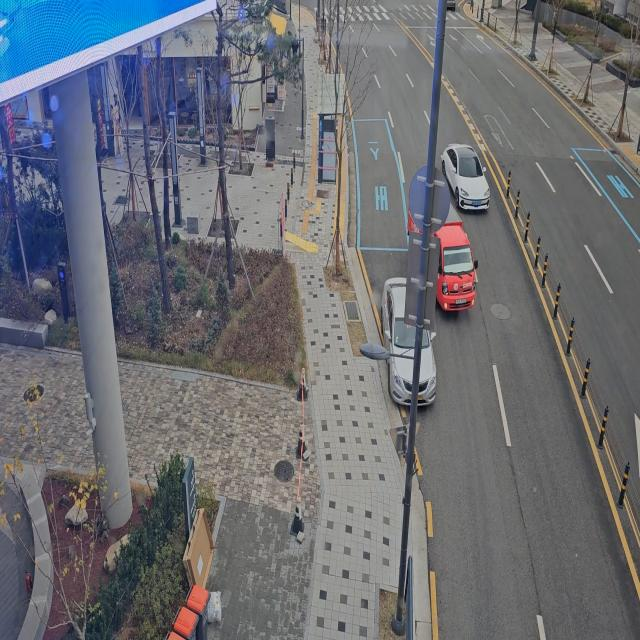Car: (377, 263, 447, 415), (440, 135, 500, 209)
Truck: (407, 184, 480, 325)
